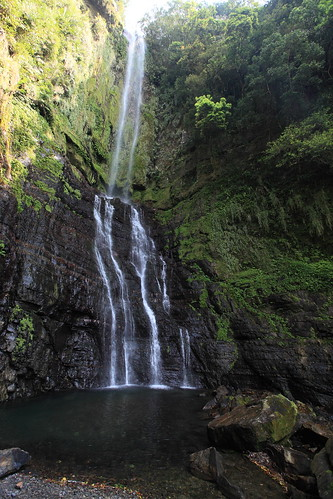wufengciWaterfall: (65, 17, 211, 390)
